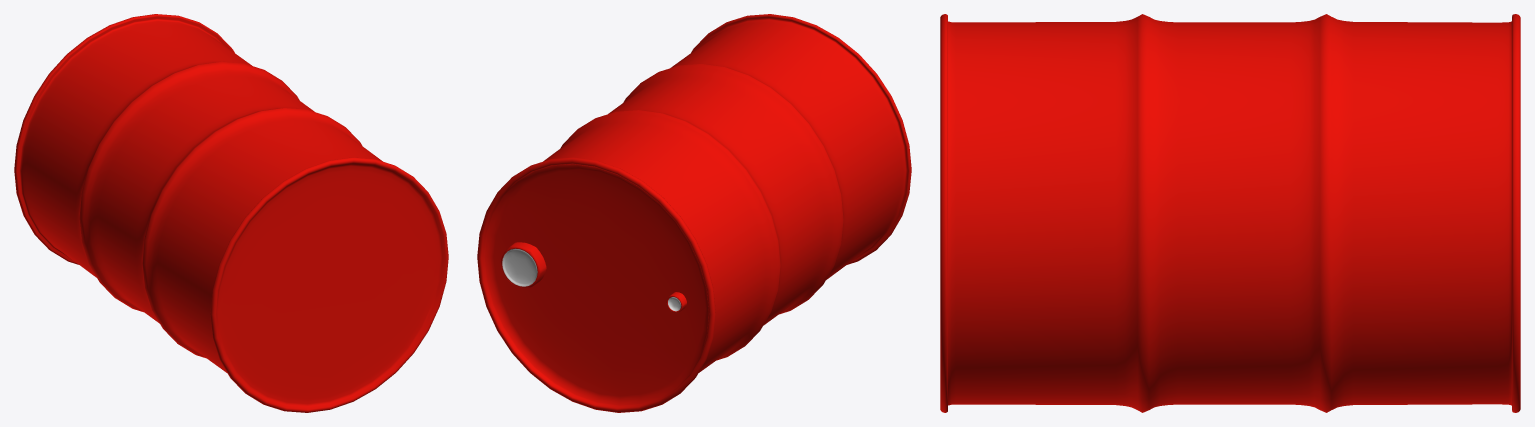
File: barrel_red.dae
3 renders of one model, left to right at view 1: azimuth 30°, elevation 25°; view 2: azimuth 150°, elevation 25°; view 3: azimuth 270°, elevation 25°, orthographic. The views are drawn at different scales.
Visible parts, largest first — view 1: barrel_red; view 2: barrel_red; view 3: barrel_red.
Boxes of the visible parts, x1=… form: barrel_red: x1=14, y1=14, x2=448, y2=412; barrel_red: x1=477, y1=14, x2=911, y2=412; barrel_red: x1=940, y1=14, x2=1520, y2=412.
Bounding box in the file's own units: 0.603 × 0.876 × 0.603.
